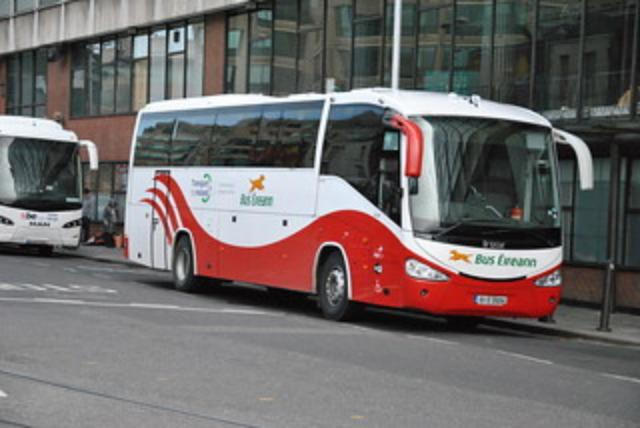bus: (122, 86, 564, 320), (2, 114, 82, 252)
